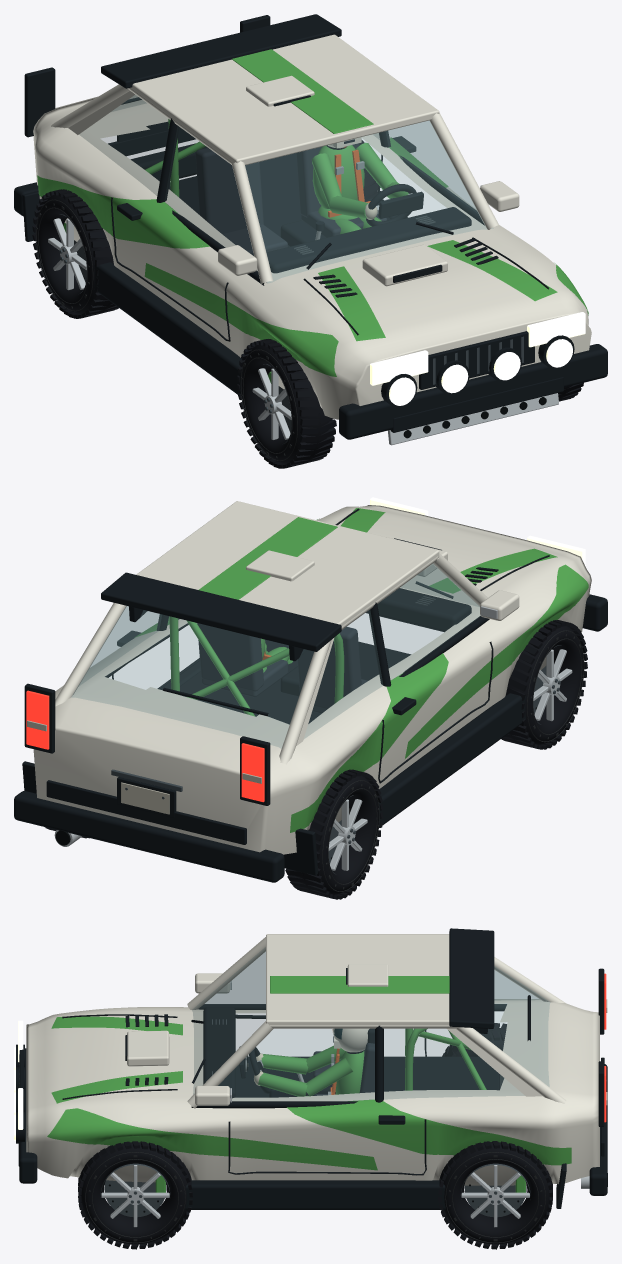
File: dusthawk_rally.glb
3 views of the same model, one above another, from view 1: azimuth 30°, elevation 25°; view 2: azimuth 150°, elevation 25°; view 3: azimuth 270°, elevation 25° (orthographic). The views are drawn at different scales.
Visible parts, largest first — view 1: Lacquered body, Carbon and trim (×2), Glass, Race livery (×2), Tire rubber (×2), Cabin fabric, Driver_helmet_and_harness, Headlamp lenses, Machined aluminum (×3), Raised sidewall rubber (×2), Dark machined metal, SteeringWheel; view 2: Lacquered body, Carbon and trim (×2), Glass, Race livery (×2), Tire rubber (×2), Cabin fabric, Machined aluminum (×2), Brake lenses, Raised sidewall rubber (×2), Blank registration plate, Headlamp lenses, Dark machined metal; view 3: Lacquered body, Carbon and trim (×2), Glass, Race livery (×2), Tire rubber (×3), Driver_helmet_and_harness, Machined aluminum (×2), Dark machined metal (×2), Raised sidewall rubber (×2), Cabin fabric, Headlamp lenses.
Part boxes in pixels (x1,y1,x2,y2): Lacquered body: (33, 34, 591, 419); Carbon and trim (×2): (14, 14, 607, 439); Glass: (79, 95, 493, 283); Race livery (×2): (37, 49, 588, 376); Tire rubber (×2): (32, 189, 336, 468); Cabin fabric: (195, 143, 387, 255); Driver_helmet_and_harness: (311, 137, 408, 234); Headlamp lenses: (370, 312, 585, 405); Machined aluminum (×3): (48, 185, 558, 445); Raised sidewall rubber (×2): (36, 199, 297, 460); Dark machined metal: (294, 215, 523, 384); SteeringWheel: (366, 184, 416, 226); Lacquered body: (33, 501, 591, 854); Carbon and trim (×2): (14, 508, 607, 882); Glass: (71, 563, 480, 748); Race livery (×2): (134, 508, 588, 832); Tire rubber (×2): (285, 620, 587, 899); Cabin fabric: (197, 623, 368, 713); Machined aluminum (×2): (328, 649, 572, 870); Brake lenses: (26, 690, 264, 802); Raised sidewall rubber (×2): (322, 630, 584, 891); Blank registration plate: (27, 720, 261, 814); Headlamp lenses: (370, 497, 585, 566); Dark machined metal: (111, 596, 435, 799); Lacquered body: (26, 934, 599, 1185); Carbon and trim (×2): (16, 928, 607, 1209); Glass: (192, 947, 550, 1100); Race livery (×2): (47, 976, 571, 1170); Tire rubber (×3): (78, 1023, 552, 1249); Driver_helmet_and_harness: (254, 1028, 369, 1096); Machined aluminum (×2): (101, 1165, 529, 1227); Dark machined metal (×2): (100, 1163, 530, 1217); Raised sidewall rubber (×2): (85, 1152, 545, 1243); Cabin fabric: (313, 1043, 374, 1095); Headlamp lenses: (14, 1020, 23, 1140).
Size of the model in its own units: 2.11 by 1.69 by 4.24.
